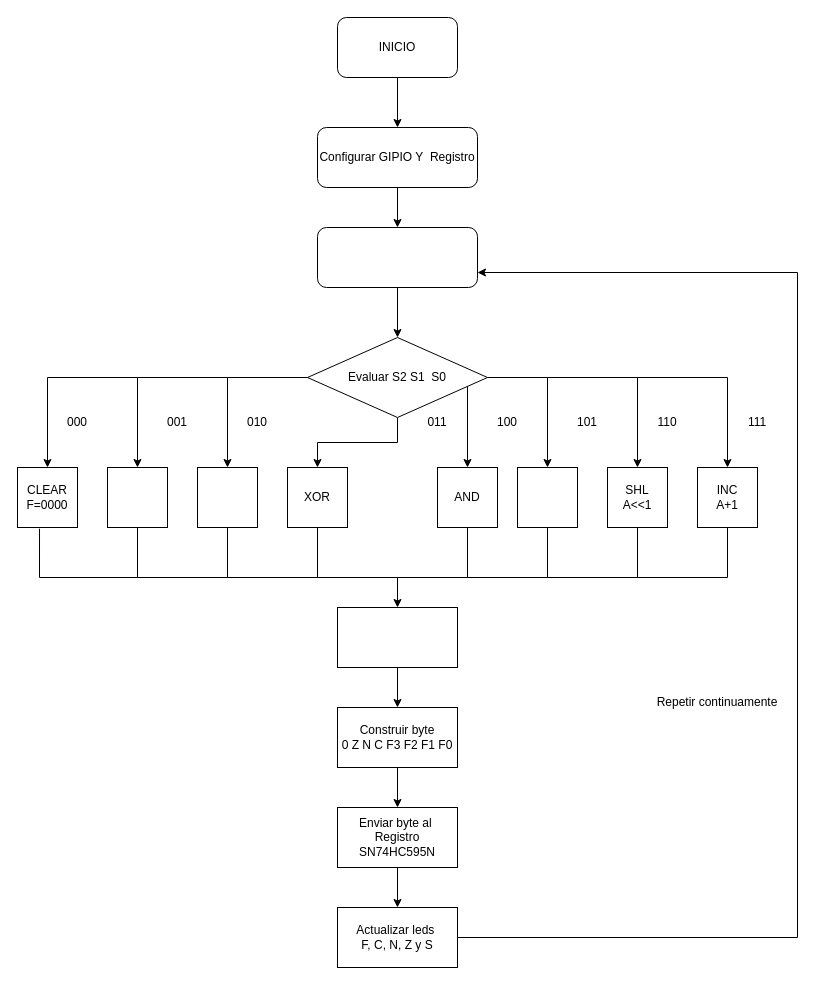
Image size: 823x985. Some labels were removed from this diagram. Here are the shapes that lost their labels. From the top down, the centre of each, then its label:
At (397,257): "Leer entradas A, B Y S".
At (137,497): "A-B".
At (227,497): "A+B".
At (547,497): "OR".
At (397,637): "Calcular banderas C, N, Z".
